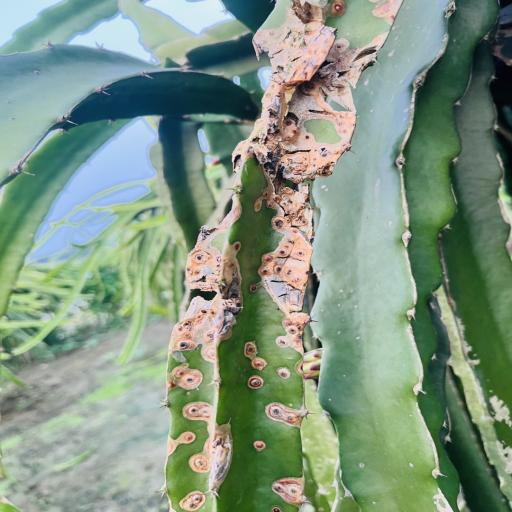stemcanker: (335, 288, 367, 345), (357, 77, 384, 122), (386, 26, 412, 58), (0, 94, 23, 121), (20, 67, 61, 80), (316, 182, 340, 198), (401, 104, 415, 130), (258, 304, 270, 334), (398, 478, 422, 493), (231, 362, 250, 378), (381, 215, 400, 231), (372, 279, 390, 293), (262, 499, 280, 512), (405, 3, 423, 16), (332, 2, 345, 19), (358, 455, 366, 481), (402, 410, 419, 422), (405, 457, 419, 471), (248, 278, 259, 295), (278, 401, 298, 410), (318, 266, 333, 277), (366, 498, 382, 508), (327, 394, 340, 406), (318, 306, 330, 318), (340, 372, 354, 382), (285, 352, 296, 364), (341, 30, 354, 40), (357, 460, 367, 472), (183, 390, 198, 398), (356, 461, 368, 469), (370, 500, 382, 508), (407, 461, 418, 469), (334, 288, 348, 294), (338, 318, 351, 324), (320, 183, 328, 192), (354, 333, 363, 341), (325, 396, 334, 404), (407, 462, 417, 469), (354, 304, 364, 311), (321, 306, 327, 317), (353, 302, 360, 311), (338, 296, 343, 308), (340, 372, 350, 378), (318, 308, 326, 314), (336, 329, 342, 337), (288, 400, 295, 406), (354, 335, 361, 341), (200, 506, 208, 511), (342, 373, 348, 379), (184, 392, 193, 396), (337, 330, 342, 337), (370, 501, 378, 505), (408, 413, 413, 418), (328, 398, 333, 402), (339, 289, 344, 293), (350, 288, 354, 293), (338, 303, 342, 308), (346, 32, 350, 36)
